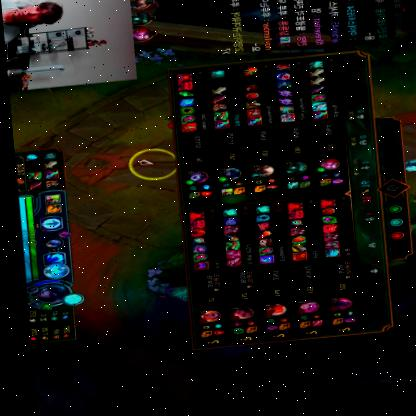streamer: (0, 0, 65, 46)
